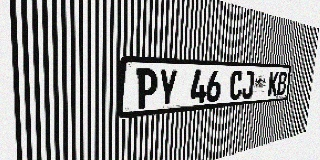4: (190, 70, 207, 104)
6: (206, 70, 222, 102)
B: (276, 71, 287, 96)
C: (229, 70, 243, 100)
J: (241, 71, 254, 99)
K: (268, 71, 279, 97)
P: (135, 68, 158, 109)
Y: (157, 69, 178, 107)
